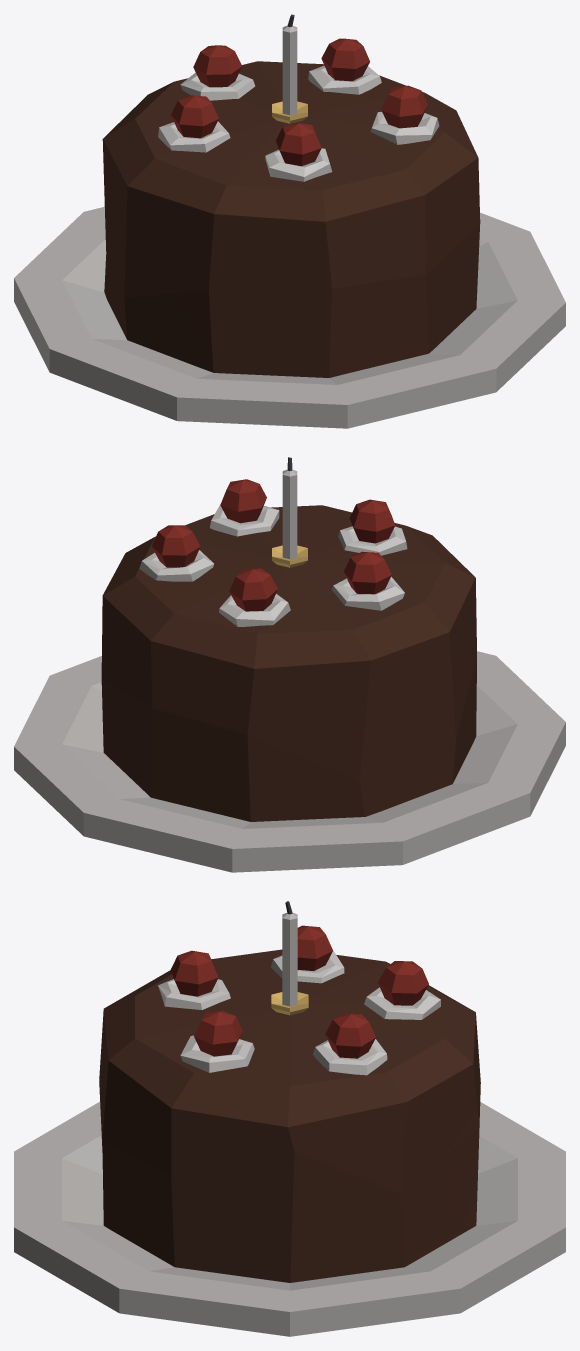
3 renders of one model, top to bottom at view 1: azimuth 30°, elevation 25°; view 2: azimuth 150°, elevation 25°; view 3: azimuth 270°, elevation 25°, orthographic. The views are drawn at different scales.
Parts seen in each view (by area): view 1: huitugou_2200_3249; view 2: huitugou_2200_3249; view 3: huitugou_2200_3249.
Boxes of the visible parts, x1,y1,x2,y2 form: huitugou_2200_3249: [14, 14, 565, 428]; huitugou_2200_3249: [14, 457, 565, 872]; huitugou_2200_3249: [14, 901, 565, 1336].
Bounding box in the file's own units: 72.01 × 47.8 × 68.48.
